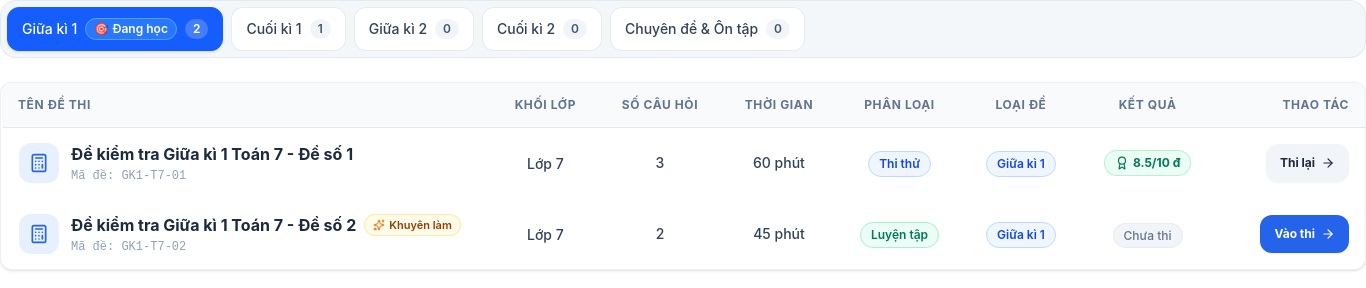
Scenario: StudentExamListClient Component › switches tabs and displays exams for the newly selected milestone in table
This screenshot has width=1366, height=288.
Click the tab "Cuối kì 1 1" at (289, 29), box [231,7,346,51]
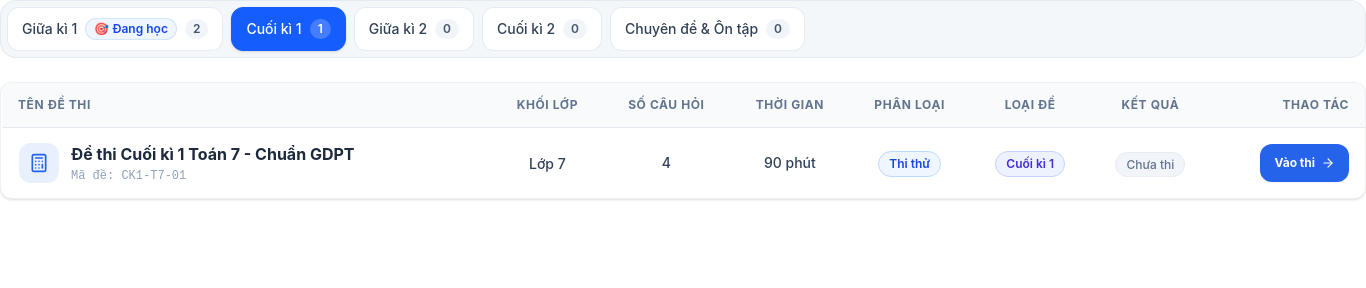
Check: the text "Đề thi Cuối kì 1 Toán 7 - Chuẩn GDPT" is shown, box [71,142,354,166]
Check: the text "Đề kiểm tra Giữa kì 1 Toán 7 - Đề số 1" is gone
